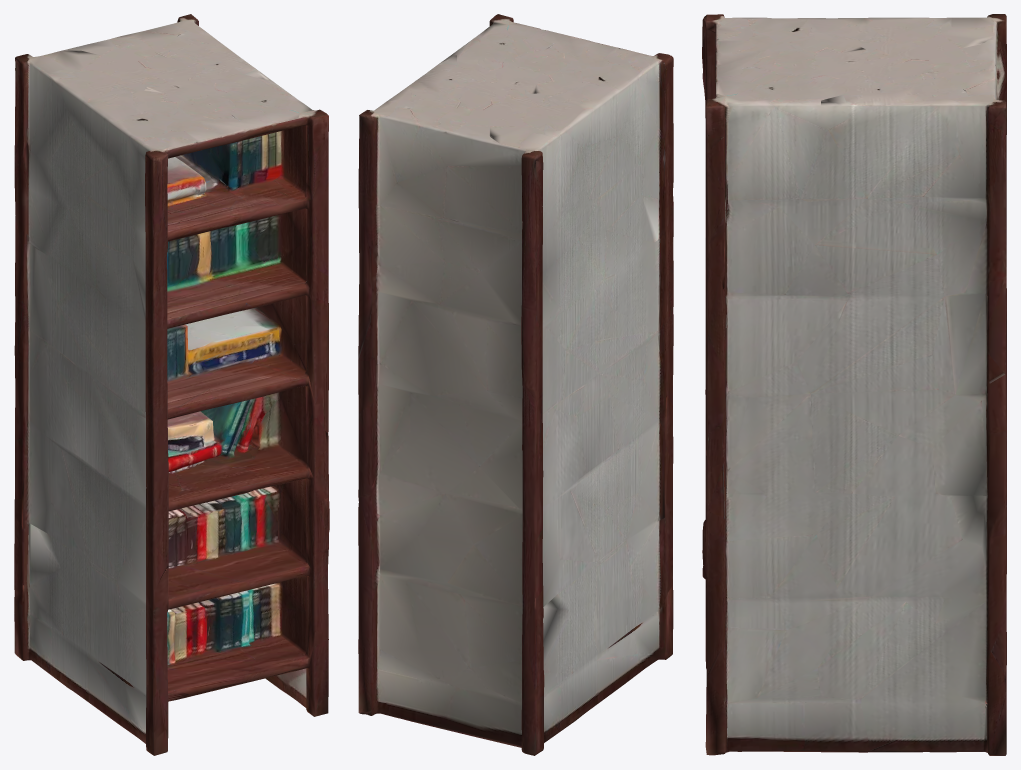
Rendered from bookshelf.glb.
3 renders of one model, left to right at view 1: azimuth 30°, elevation 25°; view 2: azimuth 150°, elevation 25°; view 3: azimuth 270°, elevation 25°, orthographic. The views are drawn at different scales.
Size of the model in its own units: 0.6285 by 2.01 by 0.8569.
1 material, 1 textured.
